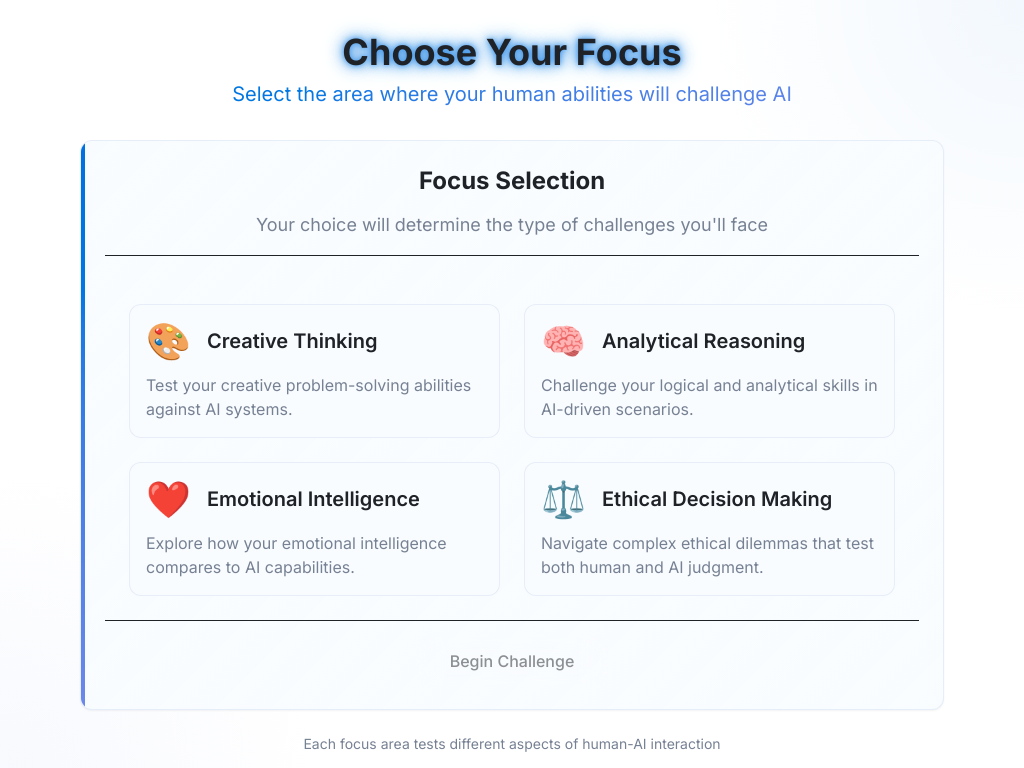
Focus Component › enables the Begin button after selecting a focus area
// Find and click a focus area
Click the button "Creative Thinking": (168, 341) [129, 304, 500, 438]
(page scrolled)
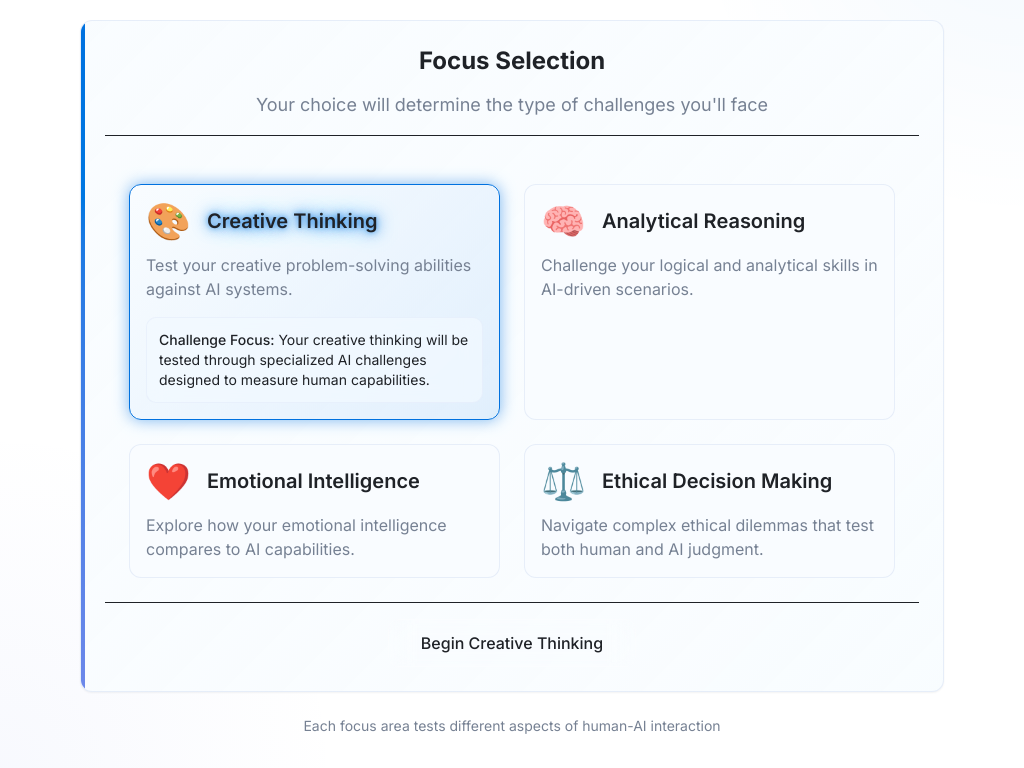
Expected: the button "Begin Creative Thinking" is enabled, [388, 619, 636, 667]
